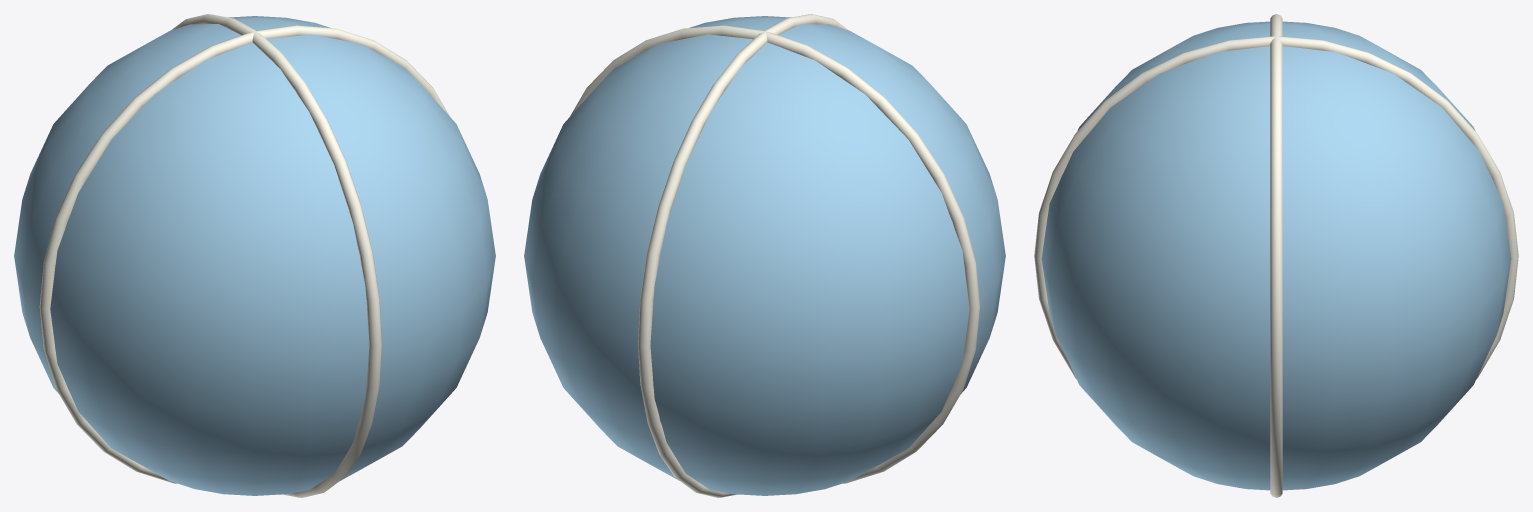
File: toy-blueBall.glb
The picture shows the model from 3 angles, left to right: view 1: azimuth 30°, elevation 25°; view 2: azimuth 150°, elevation 25°; view 3: azimuth 270°, elevation 25°; orthographic projection. The views are drawn at different scales.
Parts seen in each view (by area): view 1: Ball, Ball seam.001, Ball seam; view 2: Ball, Ball seam.001, Ball seam; view 3: Ball, Ball seam, Ball seam.001.
Boxes of the visible parts, x1,y1,x2,y2 form: Ball: (14,16,495,495); Ball seam.001: (39,25,449,483); Ball seam: (171,14,381,497); Ball: (524,16,1005,495); Ball seam.001: (570,25,980,483); Ball seam: (638,14,848,497); Ball: (1041,21,1511,490); Ball seam: (1034,36,1518,379); Ball seam.001: (1270,14,1282,497).
Bounding box in the file's own units: 0.74 × 0.74 × 0.74.
